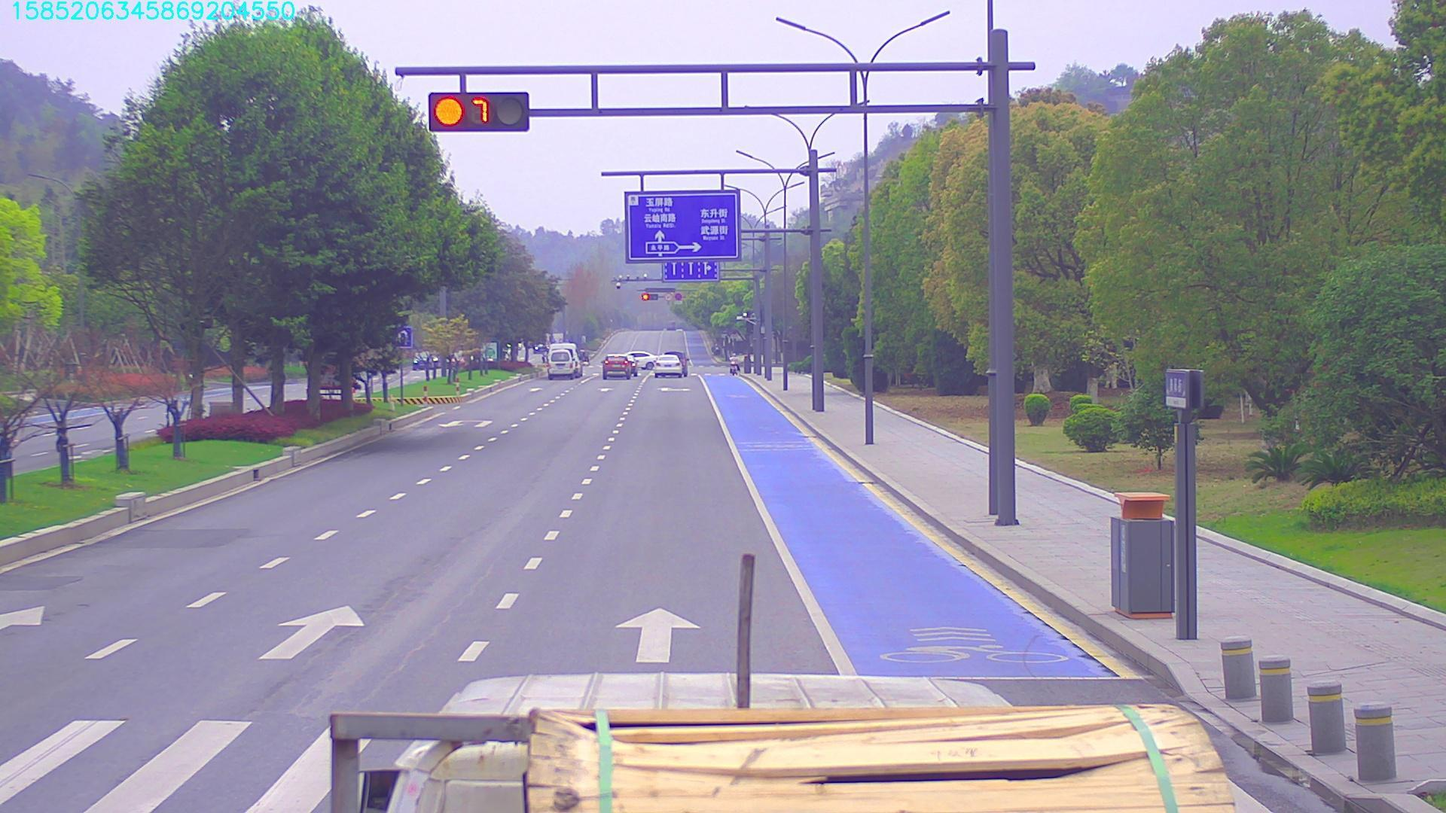red: (423, 87, 526, 131)
